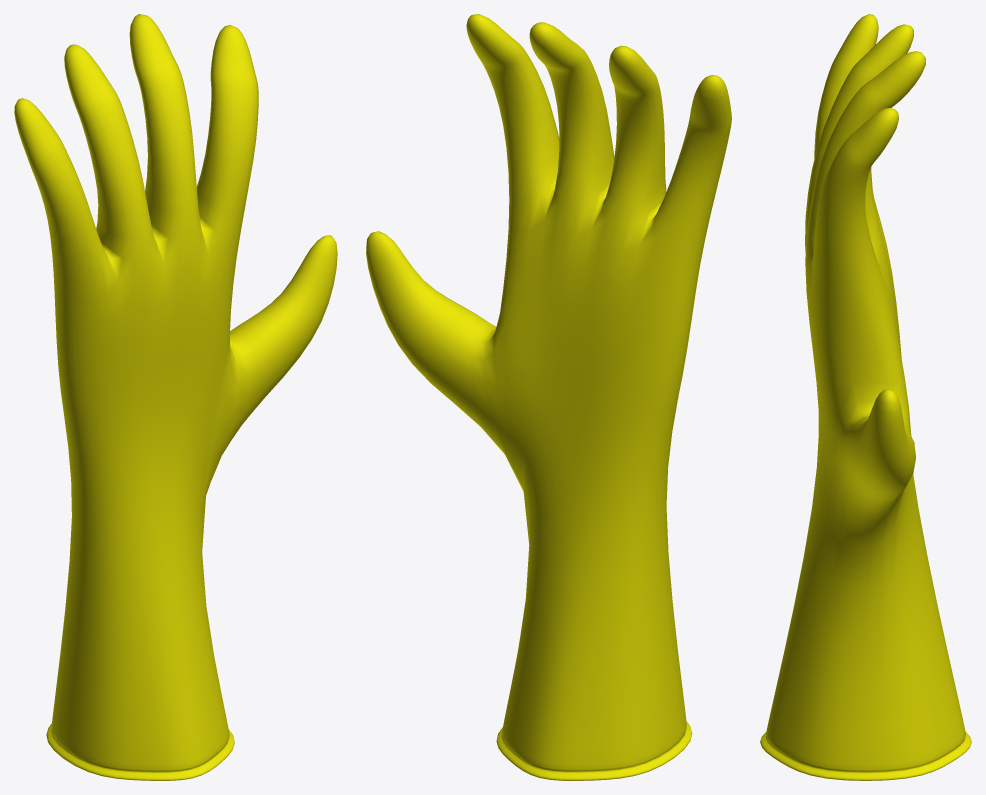
File: Glove.fbx
3 views of the same model, side by side, from view 1: azimuth 30°, elevation 25°; view 2: azimuth 150°, elevation 25°; view 3: azimuth 270°, elevation 25° (orthographic). The views are drawn at different scales.
Parts seen in each view (by area): view 1: Cube; view 2: Cube; view 3: Cube.
Part boxes in pixels (<box>): Cube: <box>14,14,337,780</box>; Cube: <box>366,14,731,780</box>; Cube: <box>760,14,971,780</box>.
Size of the model in its own units: 515 by 1039 by 283.
